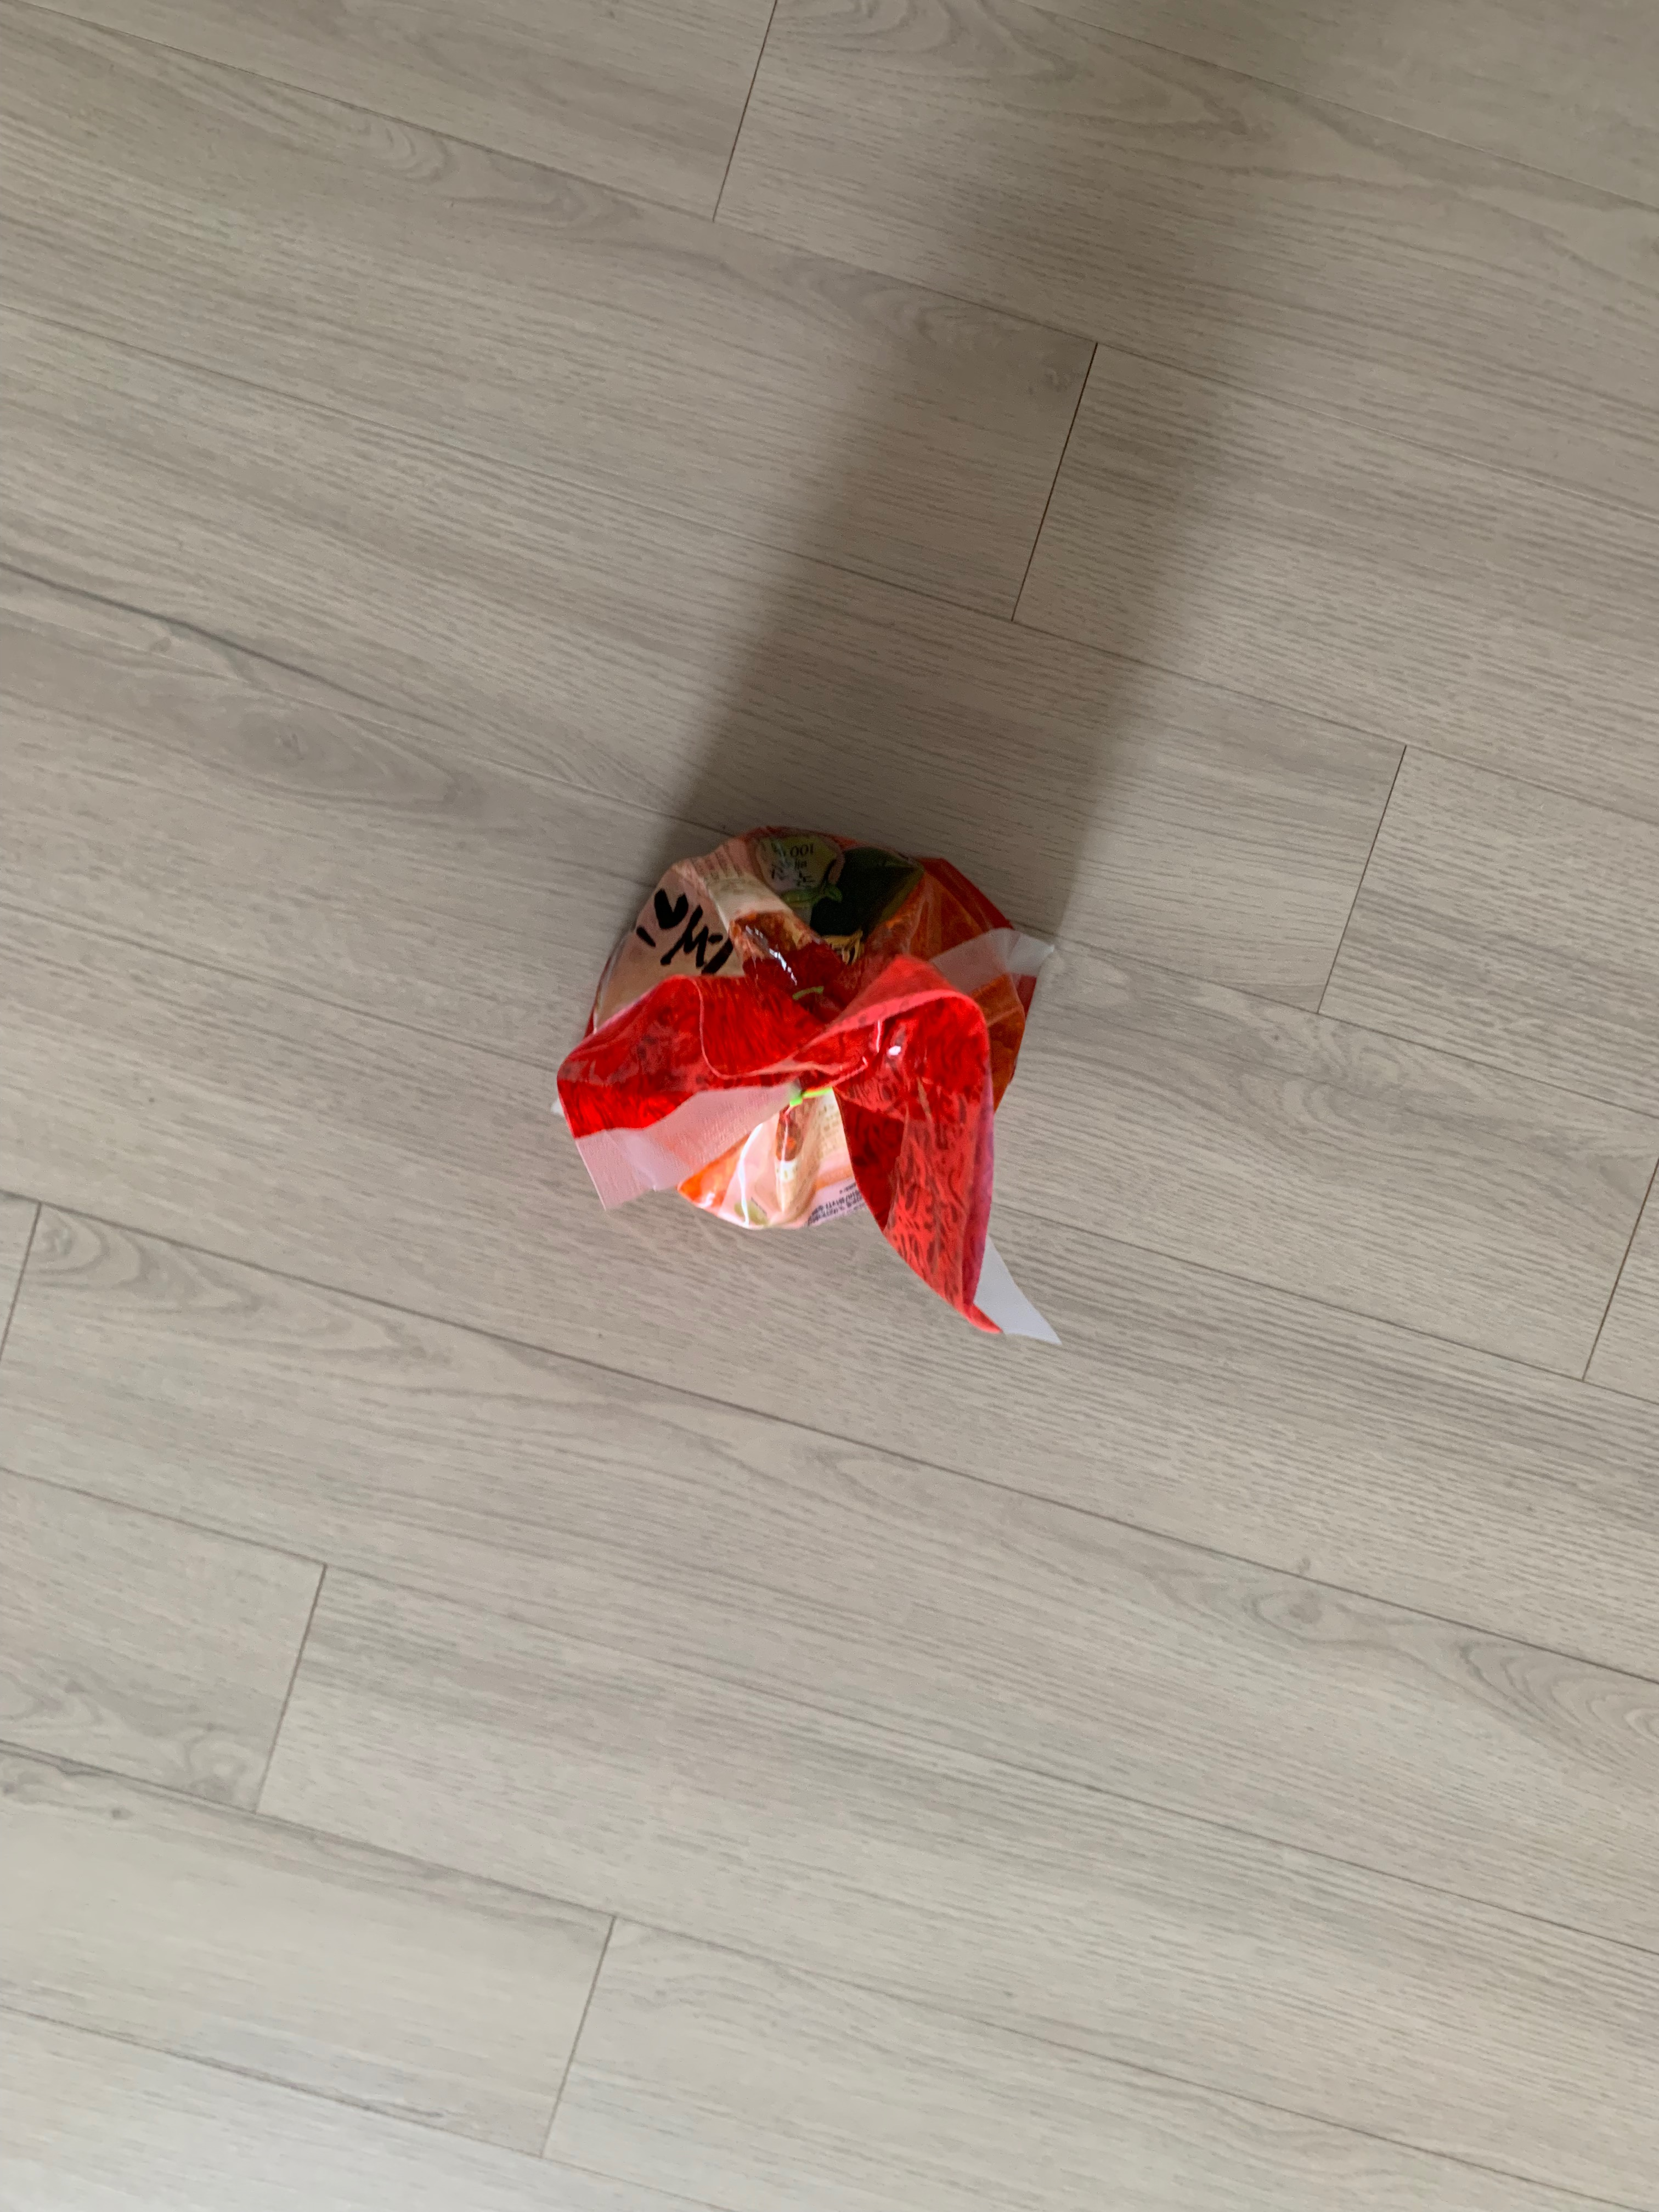kimchi: (561, 824, 1039, 1317)
